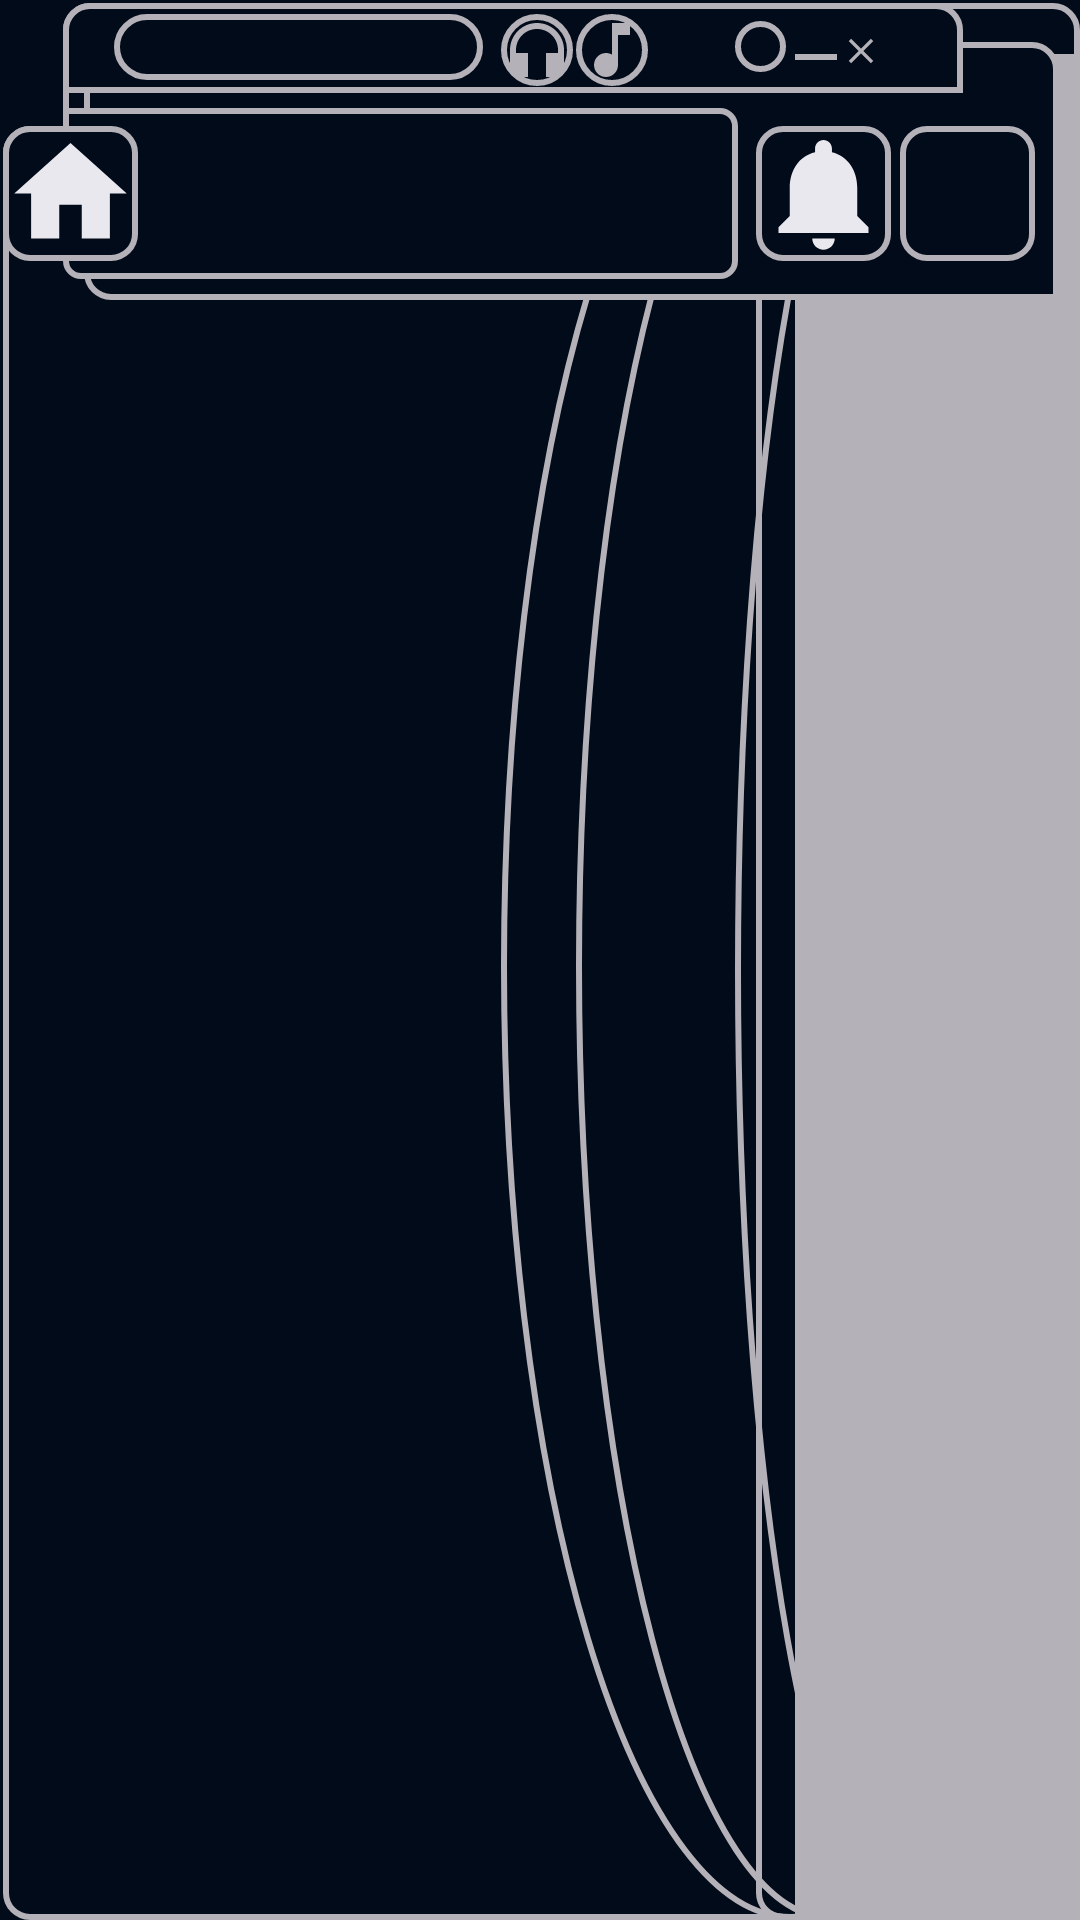

Screen size 1080*1920. Icon name, then its box in pixels as box(x1, y1, x2, y2):
Close: box(849, 39, 873, 63)
Headphones: box(501, 14, 573, 86)
Home: box(14, 143, 127, 239)
Music Note: box(576, 14, 648, 86)
Notifications: box(756, 126, 891, 261)
